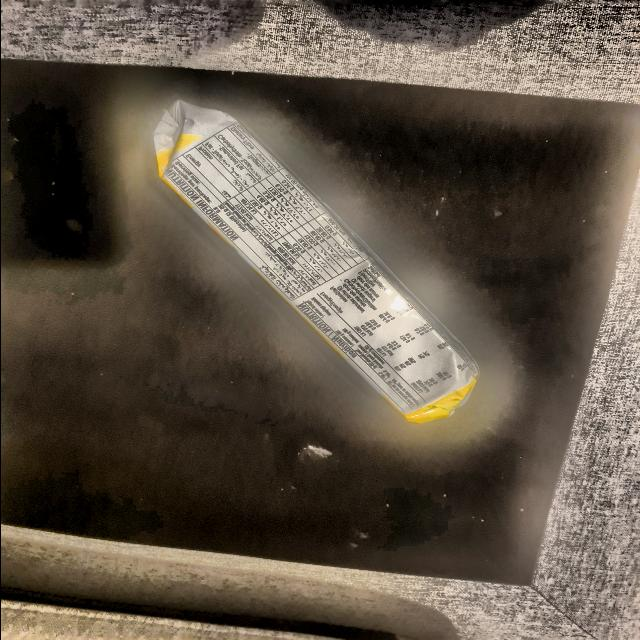lemon puff: (151, 103, 479, 414)
